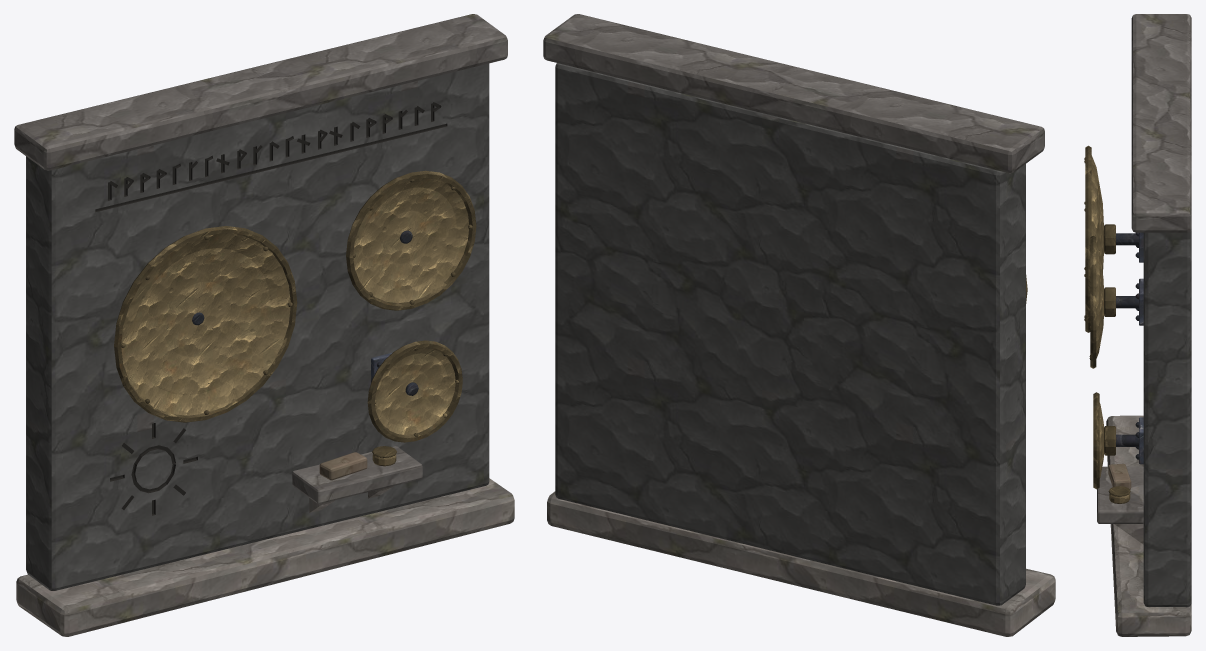
The model's file is rs_reflector_plates.glb.
The picture shows the model from 3 angles, left to right: view 1: azimuth 30°, elevation 25°; view 2: azimuth 150°, elevation 25°; view 3: azimuth 270°, elevation 25°; orthographic projection. The views are drawn at different scales.
Parts seen in each view (by area): view 1: model; view 2: model; view 3: model.
Part boxes in pixels (x1,y1,x2,y2): model: [14, 14, 514, 636]; model: [543, 14, 1055, 636]; model: [1084, 14, 1191, 636].
Size of the model in its own units: 1.58 by 1.57 by 0.358.
10 materials, 9 textured.
